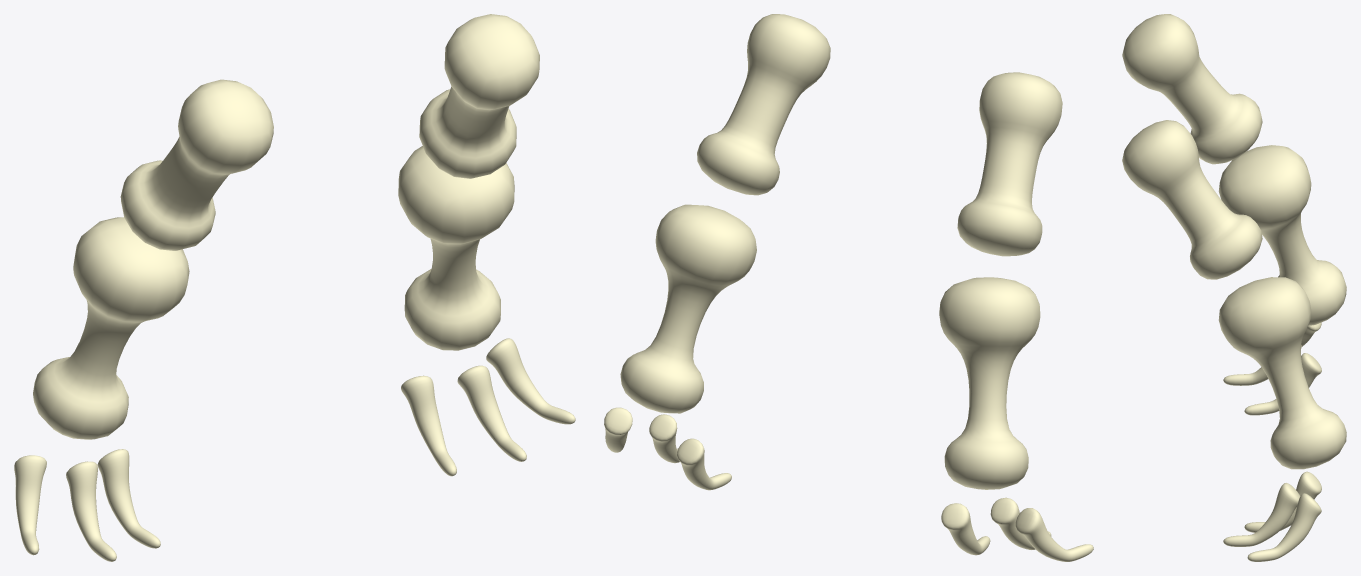
Rendered from front_legs.glb.
3 renders of one model, left to right at view 1: azimuth 30°, elevation 25°; view 2: azimuth 150°, elevation 25°; view 3: azimuth 270°, elevation 25°, orthographic. The views are drawn at different scales.
Parts seen in each view (by area): view 1: front leg down, front leg up, Plane.004, Plane.002, Plane.003; view 2: front leg down, front leg up, Plane.004, Plane.003, Plane.002; view 3: front leg down, front leg up, Plane.002, Plane.003, Plane.004.
Part boxes in pixels (x1,y1,x2,y2): front leg down: (33,146,514,439); front leg up: (120,14,539,250); Plane.004: (97,375,456,548); Plane.002: (66,365,526,561); Plane.003: (14,338,575,555); front leg down: (620,204,1040,489); front leg up: (697,14,1062,256); Plane.004: (677,438,990,555); Plane.003: (604,407,1093,561); Plane.002: (649,414,1051,549); front leg down: (1218,145,1346,469); front leg up: (1122,14,1262,279); Plane.002: (1223,345,1301,546); Plane.003: (1247,322,1321,561); Plane.004: (1244,353,1321,532).
Bounding box in the file's own units: 0.572 × 0.5002 × 0.2533.
Materials: 1 (1 with a texture image).
